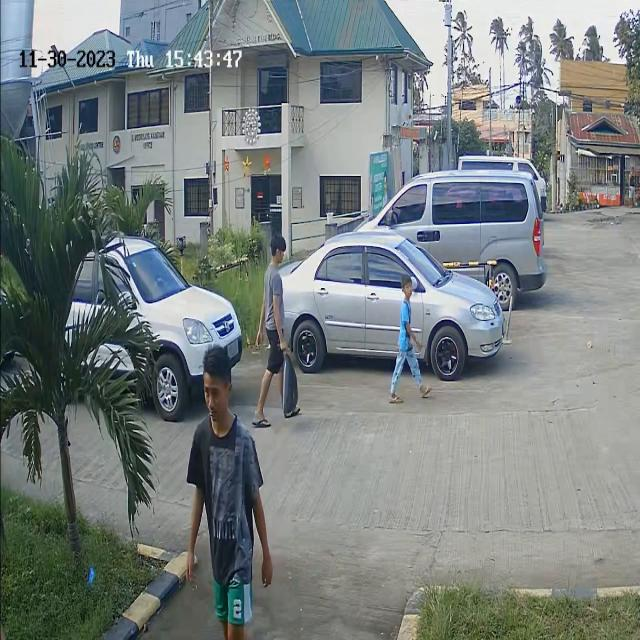garbage: (273, 344, 308, 416)
person: (257, 232, 302, 417), (190, 339, 236, 463), (396, 280, 422, 348)
